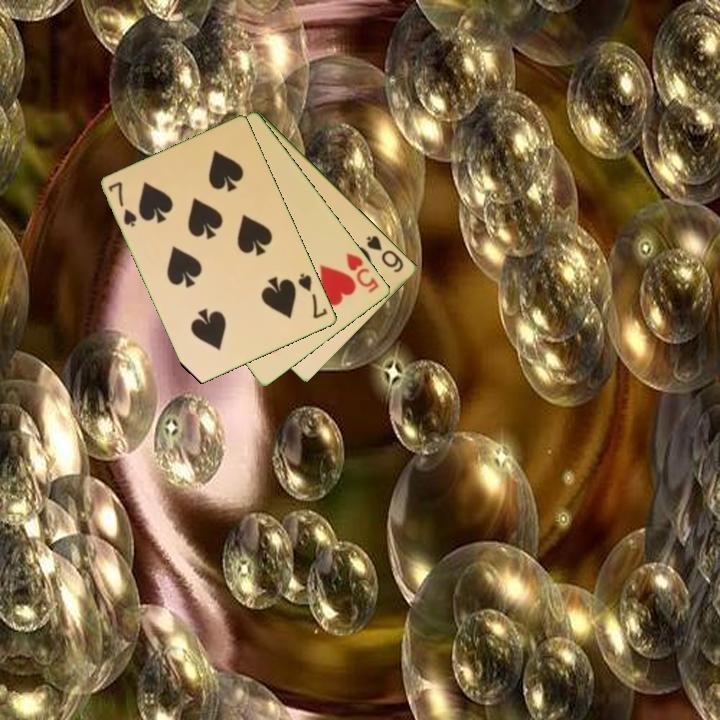5h: (343, 249, 382, 296)
6s: (363, 232, 407, 275)
7s: (295, 270, 330, 322), (105, 178, 140, 230)
